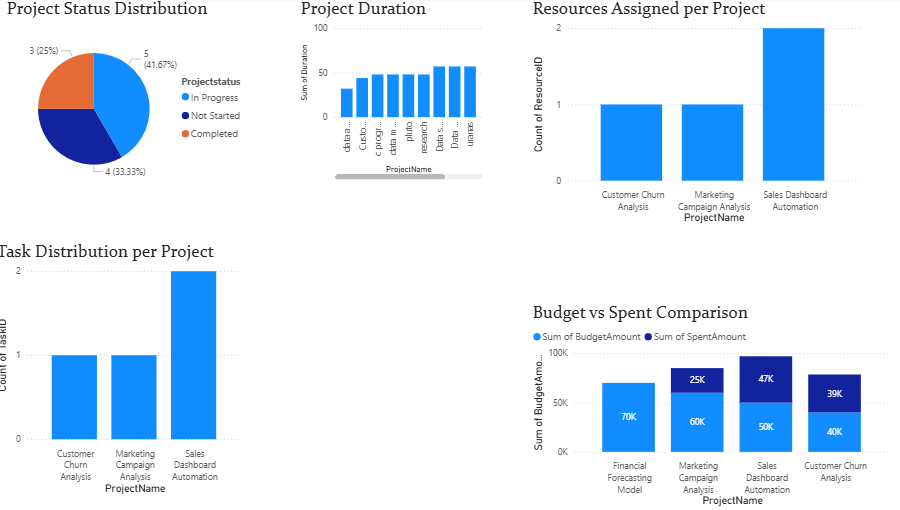

What the dashboard file says about the page in this screenshot:
{"tool":"powerbi","page":{"name":"Project  Process Overview","canvas":[1280,720],"ordinal":0},"visuals":[{"type":"pieChart","title":"Project Status Distribution","fields":{"Category":["projects.projectstatus"],"Y":["CountNonNull(projects.ProjectID)"]},"box":[23.6,0,348.2,278.8],"z":0},{"type":"lineStackedColumnComboChart","title":"Task Distribution per Project","fields":{"Category":["projects.ProjectName"],"Y":["CountNonNull(tasks.TaskID)"]},"box":[10.1,334.1,348.5,354.2],"z":1000},{"type":"columnChart","title":"Resources Assigned per Project","fields":{"Category":["projects.ProjectName"],"Y":["CountNonNull(resources.ResourceID)"]},"box":[747.4,0,460.8,316.8],"z":2000},{"type":"columnChart","title":"Budget vs Spent Comparison","fields":{"Category":["projects.ProjectName"],"Y":["Sum(budget.BudgetAmount)","Sum(budget.SpentAmount)"]},"box":[747.5,418.9,502.7,288],"z":3000},{"type":"clusteredColumnChart","title":"Project Duration","fields":{"Category":["projects.ProjectName"],"Y":["Sum(projects.Duration)"]},"box":[427.7,0,260.6,256.3],"z":4000}]}

Visuals, with their boxes in screenshot pixels (x1, y1, x2, y2), scaled from the page's 1280x720 canvas onto the 900x510 screenshot:
"Project Status Distribution" pieChart: (17, 0, 261, 197)
"Task Distribution per Project" lineStackedColumnComboChart: (7, 237, 252, 488)
"Resources Assigned per Project" columnChart: (526, 0, 850, 224)
"Budget vs Spent Comparison" columnChart: (526, 297, 879, 501)
"Project Duration" clusteredColumnChart: (301, 0, 484, 182)
